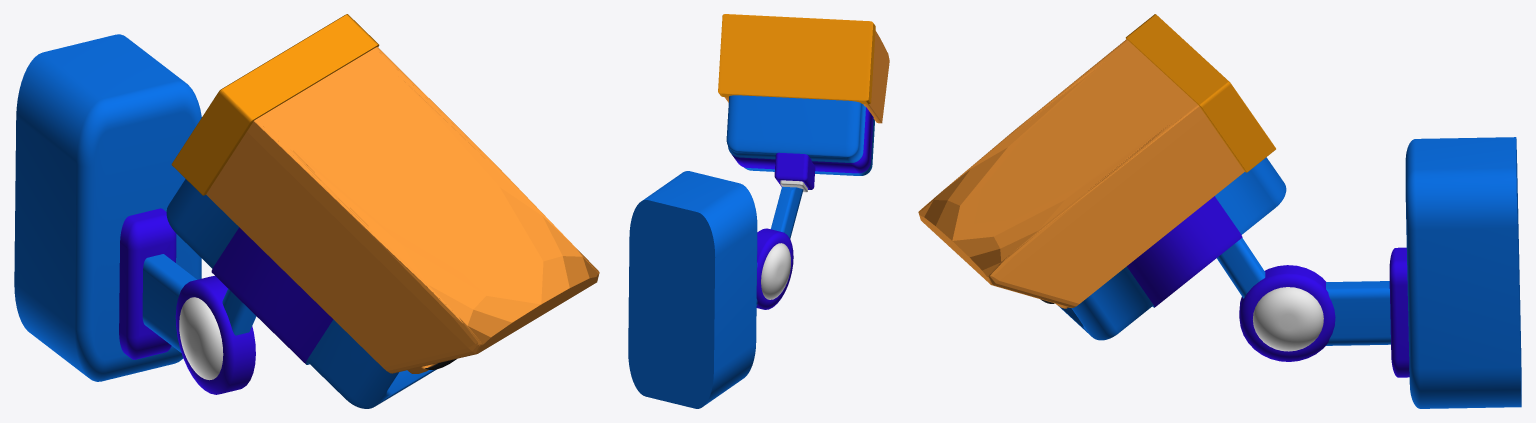
File: baby_monitor.glb
3 views of the same model, side by side, from view 1: azimuth 30°, elevation 25°; view 2: azimuth 150°, elevation 25°; view 3: azimuth 270°, elevation 25° (orthographic). The views are drawn at different scales.
Parts seen in each view (by area): view 1: Cube.003, Cube, Cube.001, Cylinder, Cube.002; view 2: Cube, Cube.003, Cylinder, Cube.002; view 3: Cube.003, Cube, Cylinder, Cube.001, Cube.002.
Boxes of the visible parts, box(x1,y1,x2,y2) form: Cube.003: box(166, 14, 599, 408); Cube: box(14, 34, 201, 381); Cube.001: box(119, 208, 196, 359); Cylinder: box(175, 276, 255, 394); Cube.002: box(222, 288, 256, 335); Cube: box(628, 171, 757, 408); Cube.003: box(718, 14, 889, 192); Cylinder: box(756, 228, 793, 309); Cube.002: box(771, 186, 803, 238); Cube.003: box(918, 14, 1286, 340); Cube: box(1405, 137, 1521, 408); Cylinder: box(1239, 265, 1335, 361); Cube.001: box(1326, 247, 1409, 377); Cube.002: box(1217, 238, 1265, 298).
Size of the model in its own units: 1.59 by 2.11 by 3.3.
